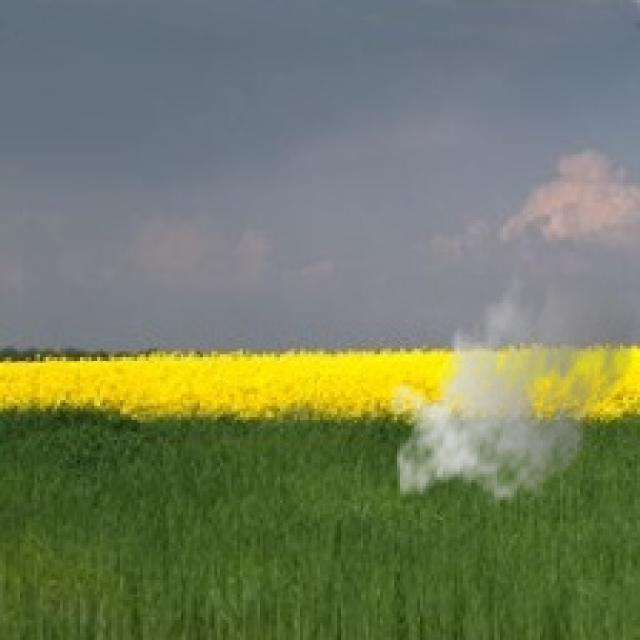Smoke: (388, 257, 638, 514)
